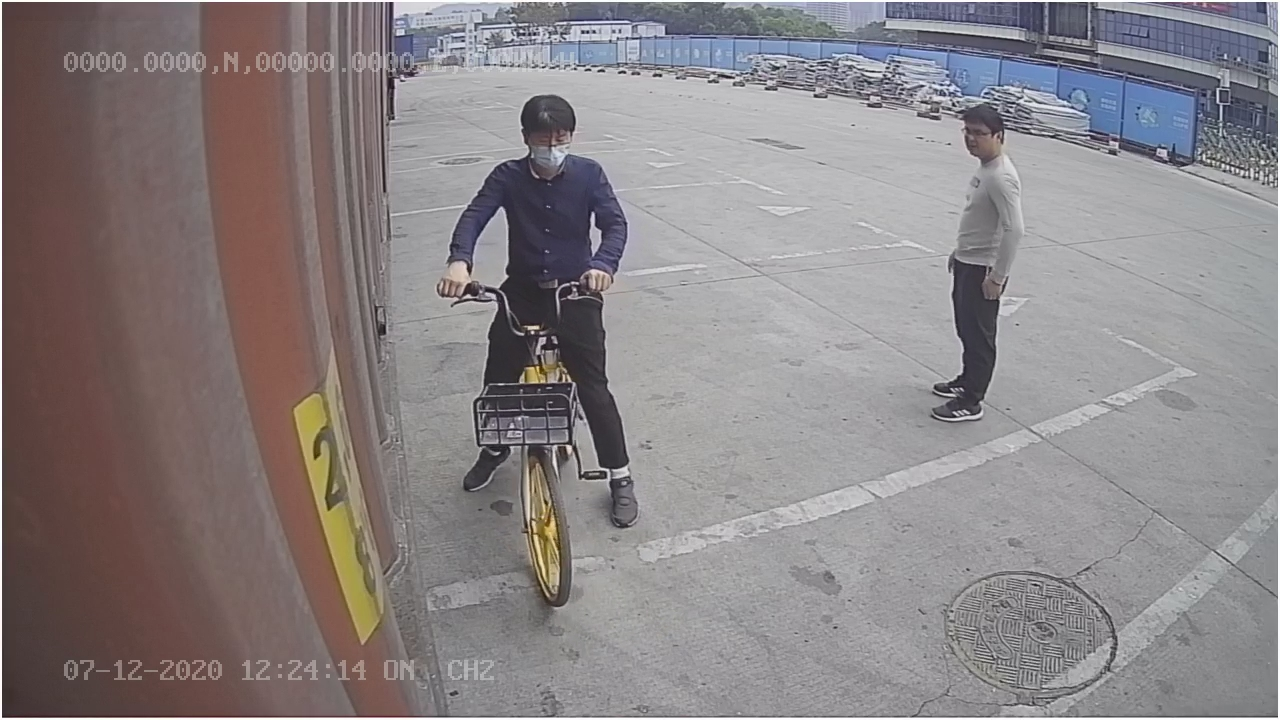person: (922, 99, 1029, 423)
